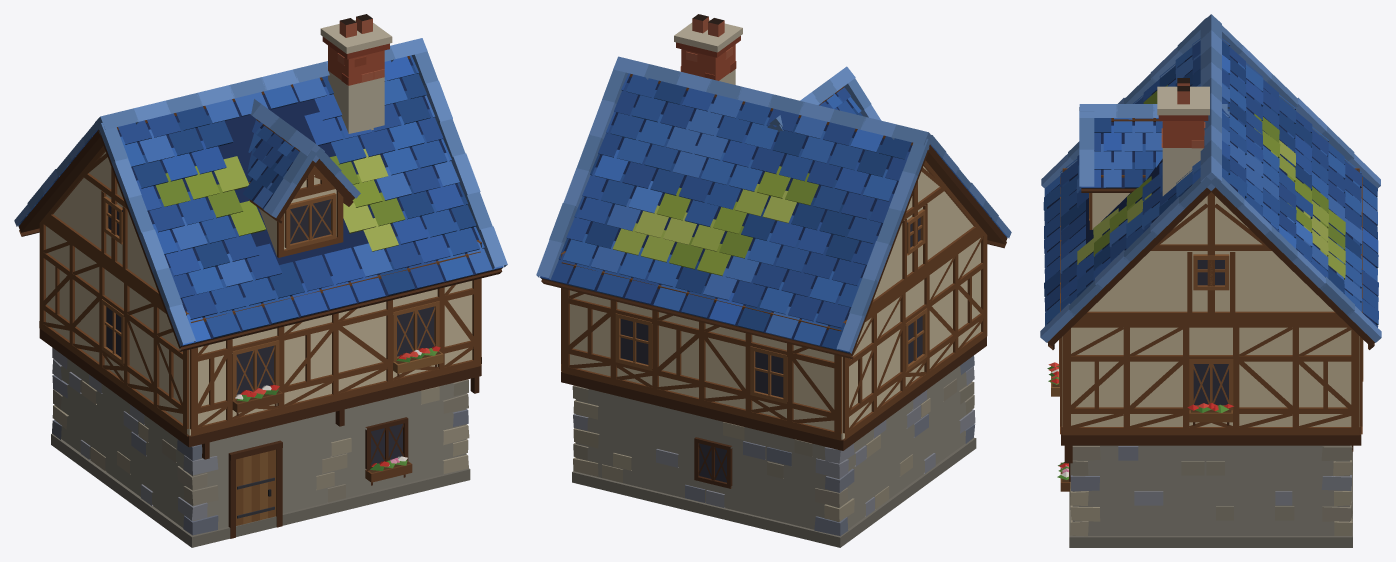
File: town_house_blue.glb
The picture shows the model from 3 angles, left to right: view 1: azimuth 30°, elevation 25°; view 2: azimuth 150°, elevation 25°; view 3: azimuth 270°, elevation 25°; orthographic projection. The views are drawn at different scales.
Visible parts, largest first — view 1: town_house_blue; view 2: town_house_blue; view 3: town_house_blue.
Part boxes in pixels (bbox=[...]): town_house_blue: bbox=[14, 14, 507, 547]; town_house_blue: bbox=[536, 14, 1011, 547]; town_house_blue: bbox=[1040, 14, 1381, 547].
Size of the model in its own units: 9.5 by 12.12 by 8.62.
